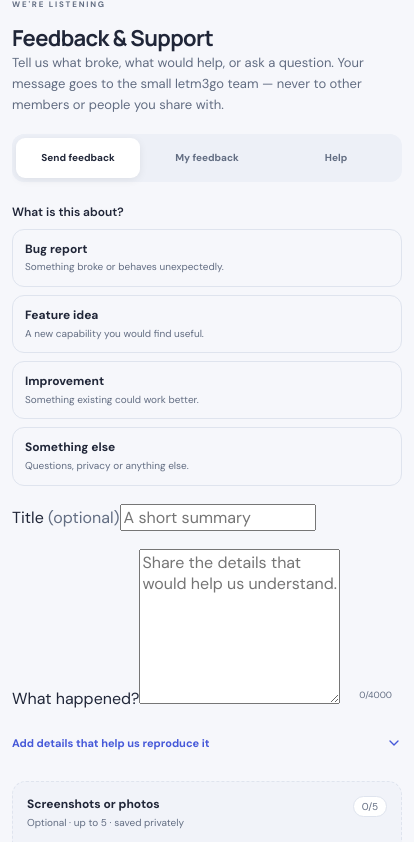
Test: cancels a send in progress and keeps the draft, ready to send with the same token
Click the radio button labelled "Bug report Something broke or behaves unexpectedly.": (207, 258) [12,229,402,287]
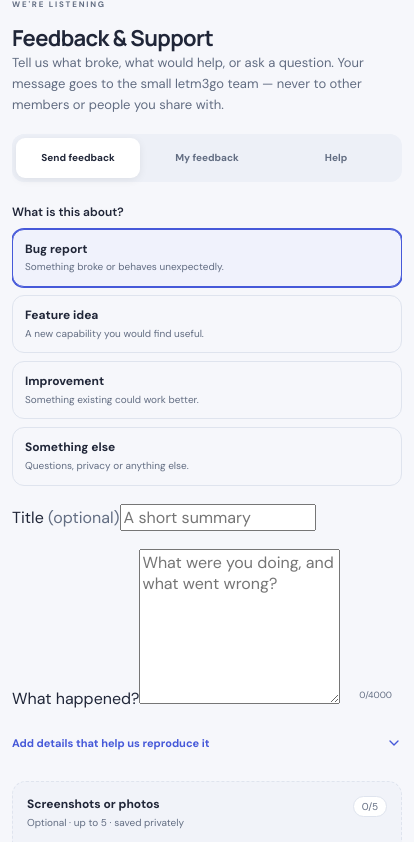
In the text box labelled "What happened? 0/4000": (240, 626) [139,549,340,704], type "It froze."
(page scrolled)
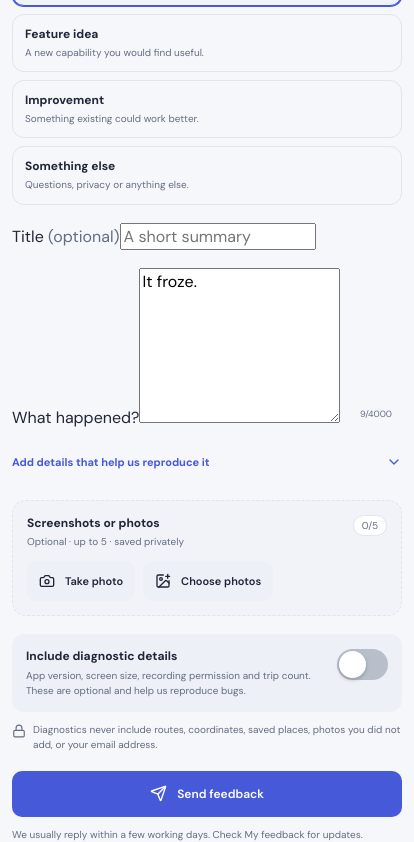
Click the button "Send feedback": (207, 794) [12,771,402,817]
(page scrolled)
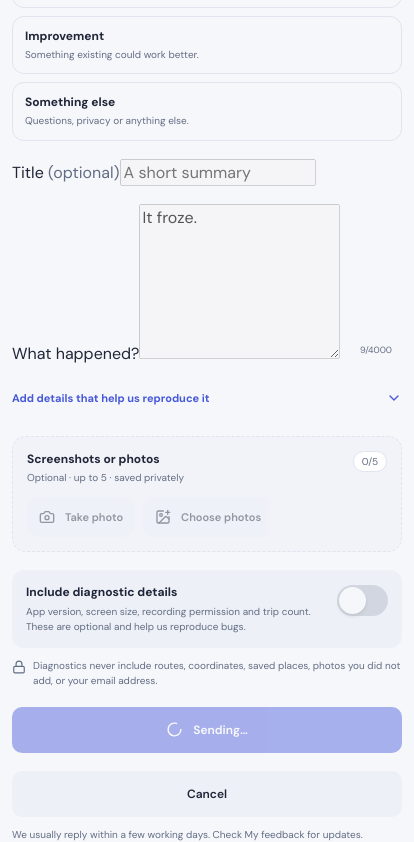
Click the button "Cancel": (207, 794) [12,771,402,817]
(page scrolled)
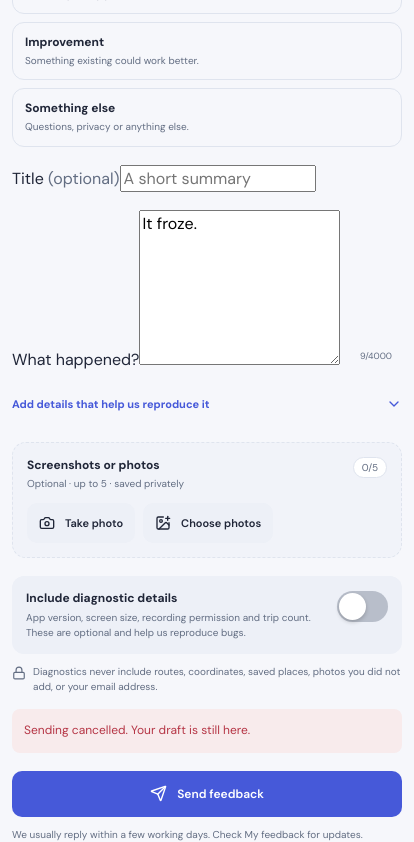
Now the message shows "Your draft is still here", box [24,722,250,738]
Click the button "Send feedback": (207, 794) [12,771,402,817]
(page scrolled)
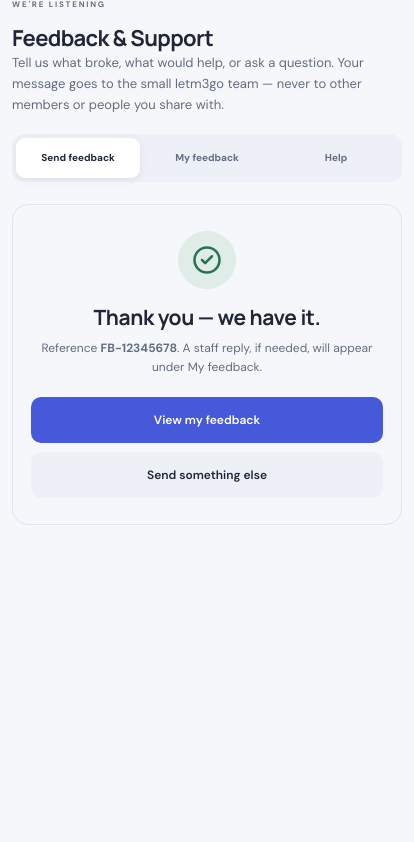
Now the heading "Thank you — we have it." is shown, box [93,303,320,331]
